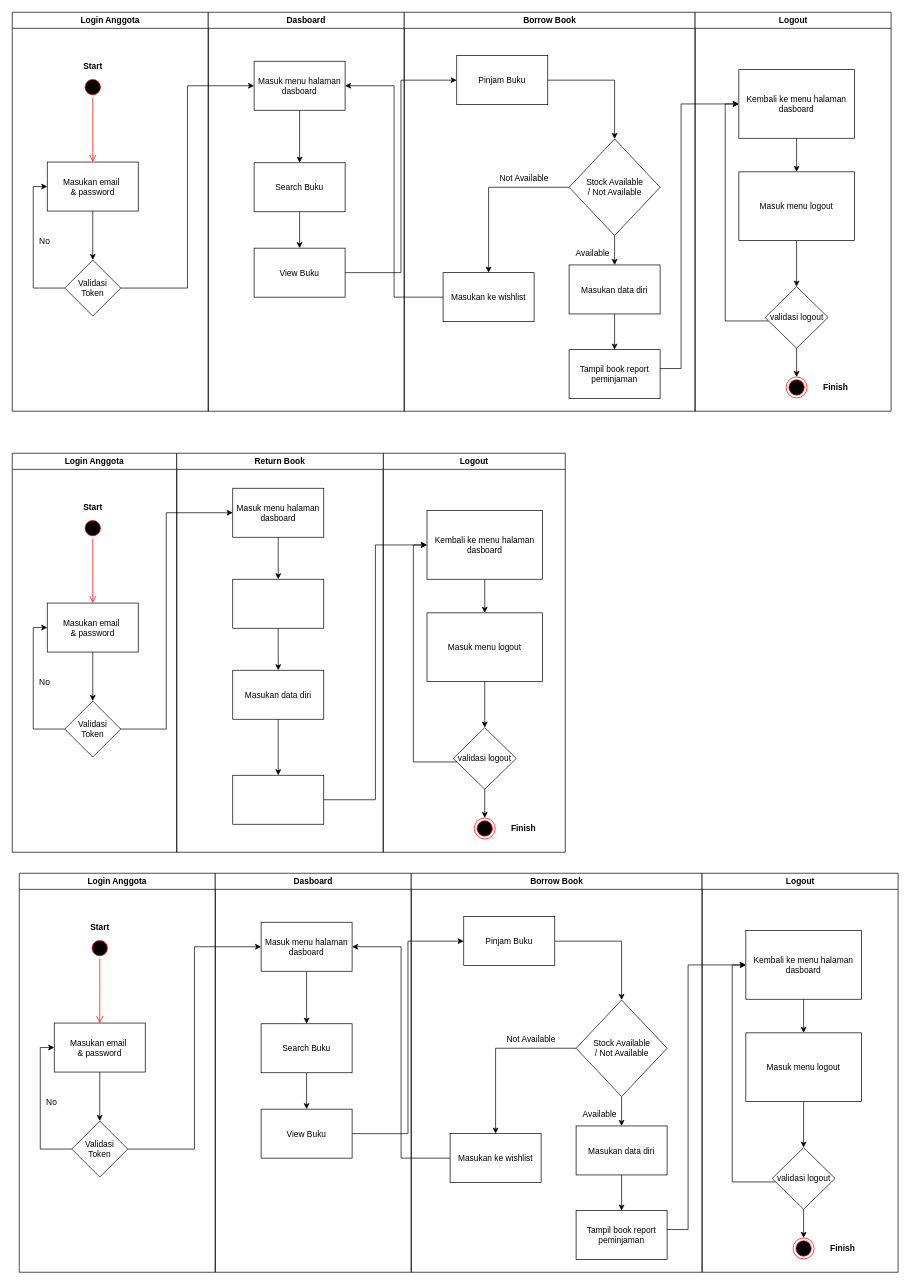
This 911x1285 diagram has some shape labels left out. Here are the shapes that lost their labels. From the top down, the centre of each, then its label:
point 278,603: Menu kembalikan buku
point 278,799: Tampil book report pengembalian
